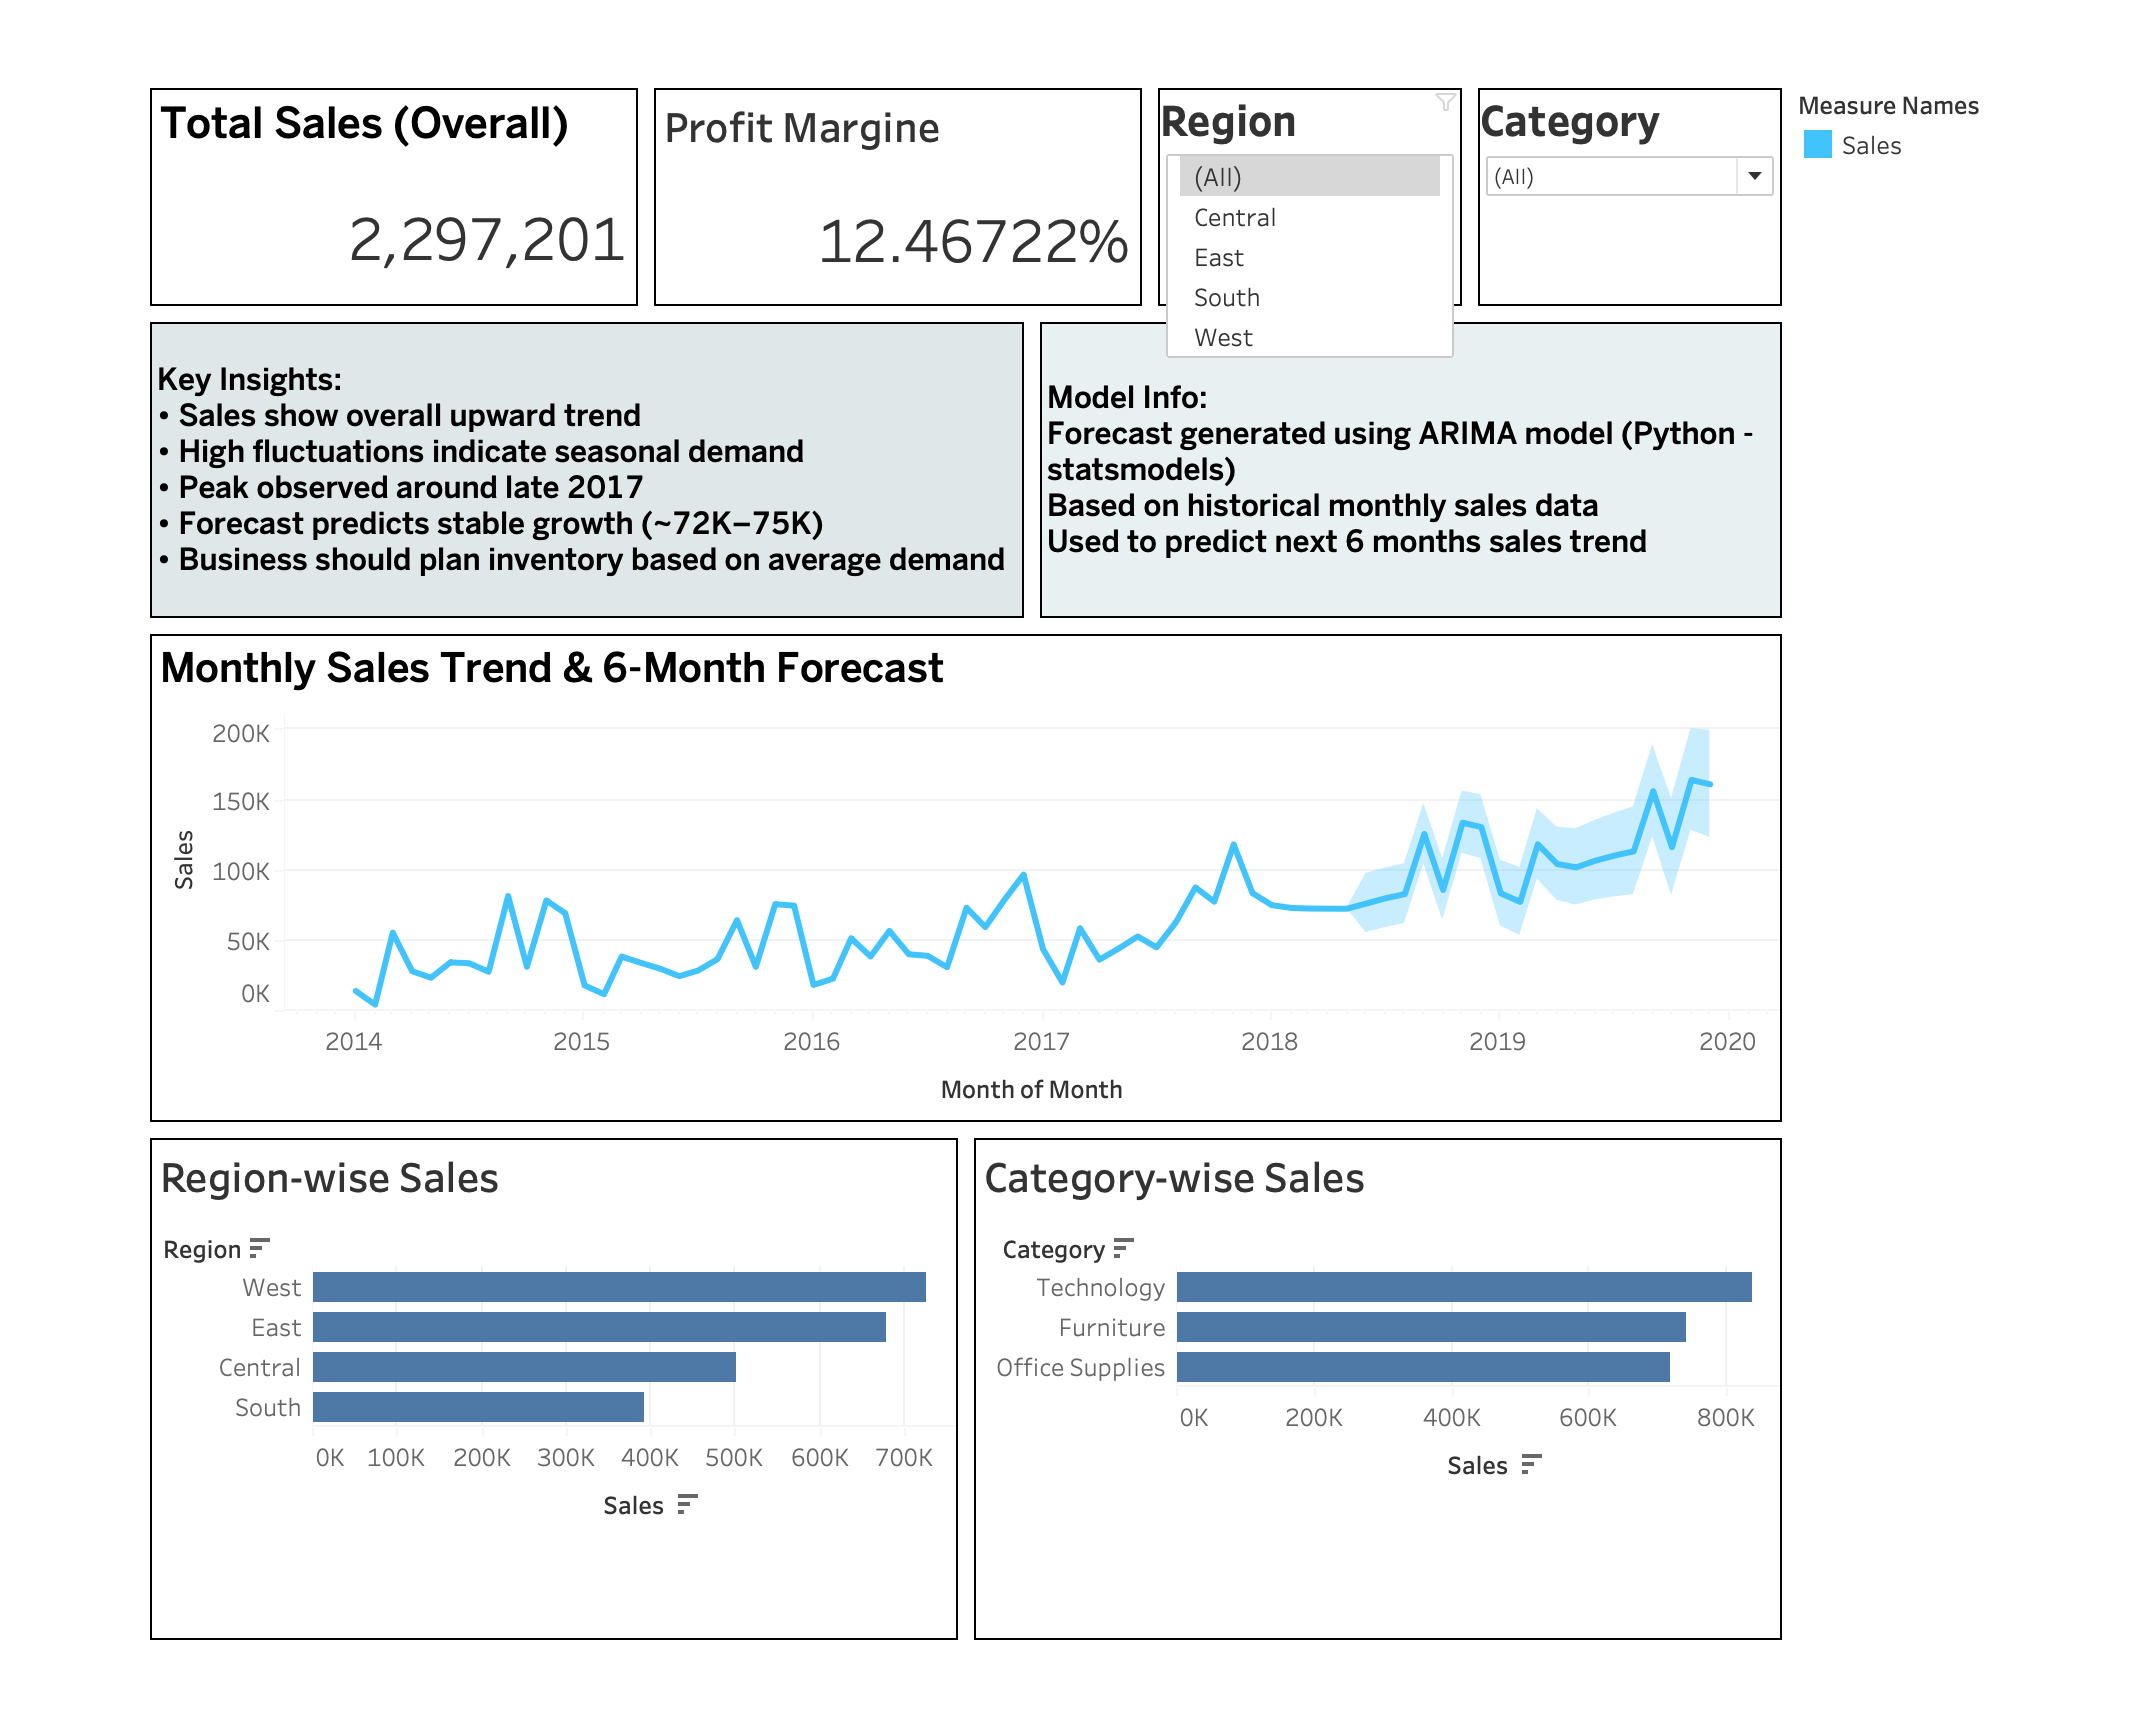

The page's visual inventory and layout, read from the dashboard file:
{"tool":"tableau","page":{"name":"Dashboard 1","canvas":[1000,800],"ordinal":0},"visuals":[{"type":"worksheet","title":"Total Sales","mark":"Automatic","box":[8,8,252,117]},{"type":"worksheet","title":"Profit Margine","mark":"Automatic","box":[260,8,252,117]},{"type":"filter","title":"Category-wise Sales","param":"[federated.1a502ai1mykpgk1ame1si0mtezkg].[none:Region:nk]","box":[512,8,160,117]},{"type":"filter","title":"Category-wise Sales","param":"[federated.1a502ai1mykpgk1ame1si0mtezkg].[none:Category:nk]","box":[672,8,160,117]},{"type":"legend","title":"Monthly Sales & Forecast","param":"[federated.1mq6czb1j02w8m0zl9nbn1at79vc].[:Measure Names]","box":[832,8,160,46]},{"type":"text","box":[8,125,445,156]},{"type":"text","box":[453,125,379,156]},{"type":"worksheet","title":"Monthly Sales & Forecast","mark":"Automatic","rows":["Sales"],"cols":["Month"],"box":[8,281,824,252]},{"type":"worksheet","title":"Region-wise Sales","mark":"Automatic","rows":["Region"],"cols":["Sales"],"box":[8,533,412,259]},{"type":"worksheet","title":"Category-wise Sales","mark":"Automatic","rows":["Category"],"cols":["Sales"],"box":[420,533,412,259]}]}

Visuals, with their boxes in screenshot pixels (x1, y1, x2, y2), scaled from the page's 1000x800 canvas onto the 2130x1734 screenshot:
"Total Sales" worksheet: l=17, t=17, r=554, b=271
"Profit Margine" worksheet: l=554, t=17, r=1091, b=271
"Category-wise Sales" filter: l=1091, t=17, r=1431, b=271
"Category-wise Sales" filter: l=1431, t=17, r=1772, b=271
"Monthly Sales & Forecast" legend: l=1772, t=17, r=2113, b=117
text: l=17, t=271, r=965, b=609
text: l=965, t=271, r=1772, b=609
"Monthly Sales & Forecast" worksheet: l=17, t=609, r=1772, b=1155
"Region-wise Sales" worksheet: l=17, t=1155, r=895, b=1717
"Category-wise Sales" worksheet: l=895, t=1155, r=1772, b=1717
